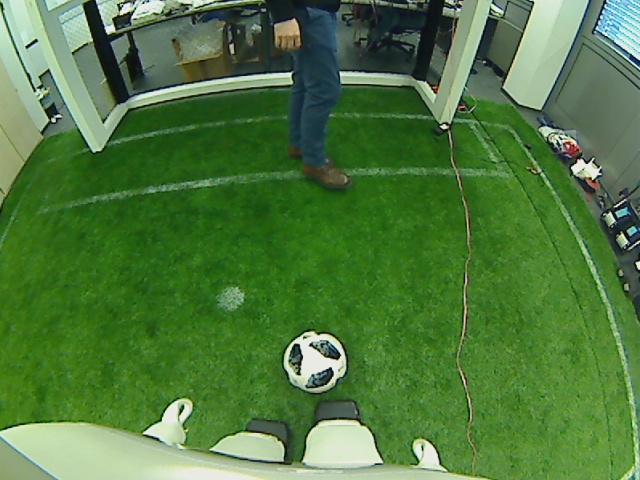ball: (282, 327, 346, 393)
